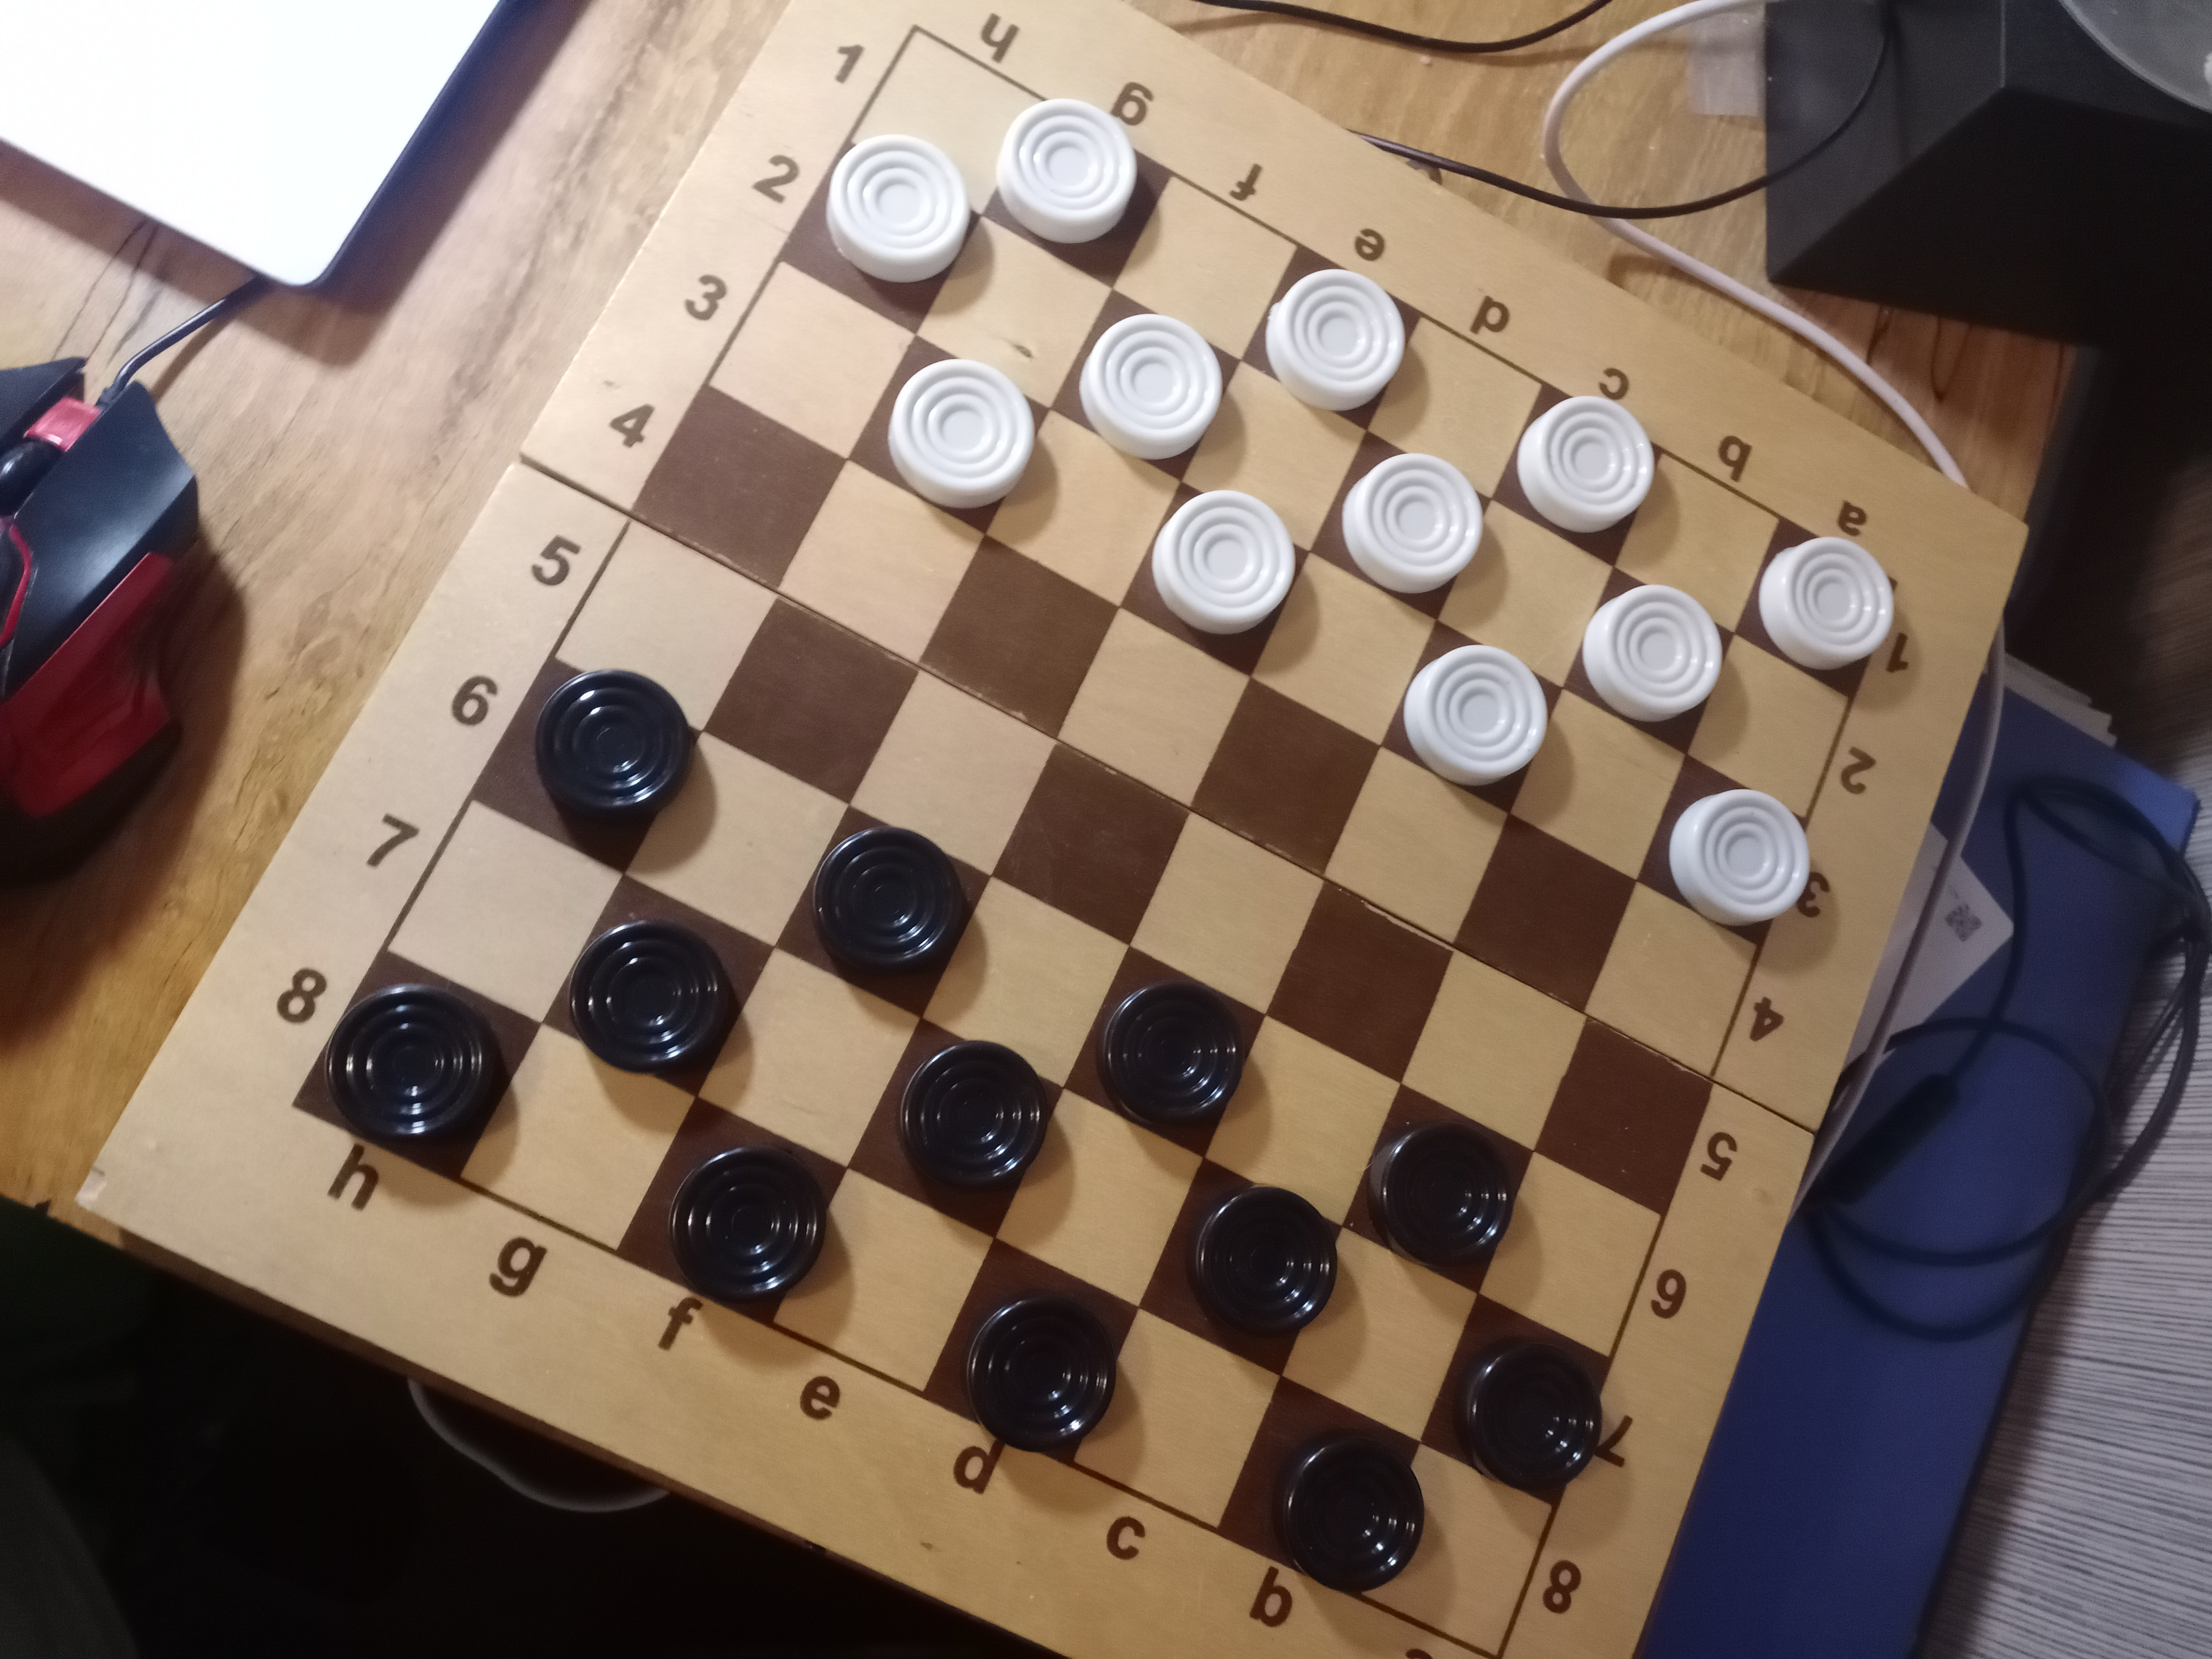Black_Draught: (296, 951, 542, 1182), (615, 1098, 846, 1326), (542, 875, 775, 1098), (921, 1239, 1137, 1466), (472, 667, 704, 875), (846, 1019, 1062, 1237), (775, 805, 991, 1018), (1217, 1377, 1425, 1595), (1139, 1159, 1343, 1375), (1064, 946, 1264, 1161), (1343, 1084, 1534, 1293), (1423, 1295, 1609, 1504)
